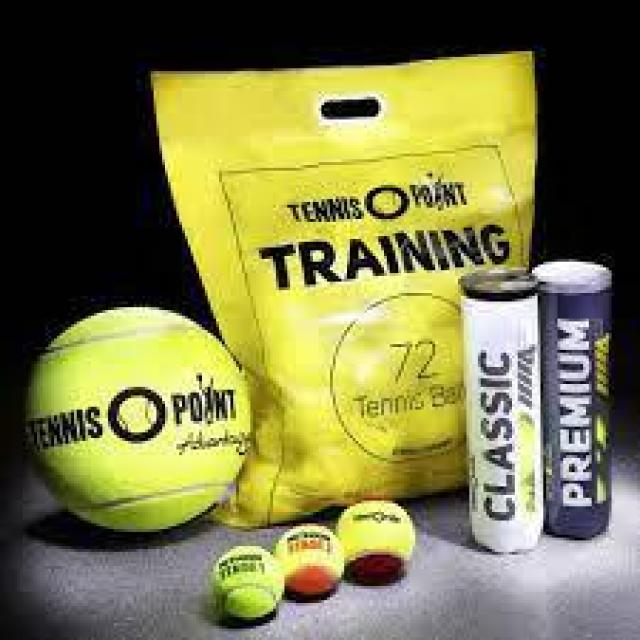ball: (202, 533, 290, 628)
